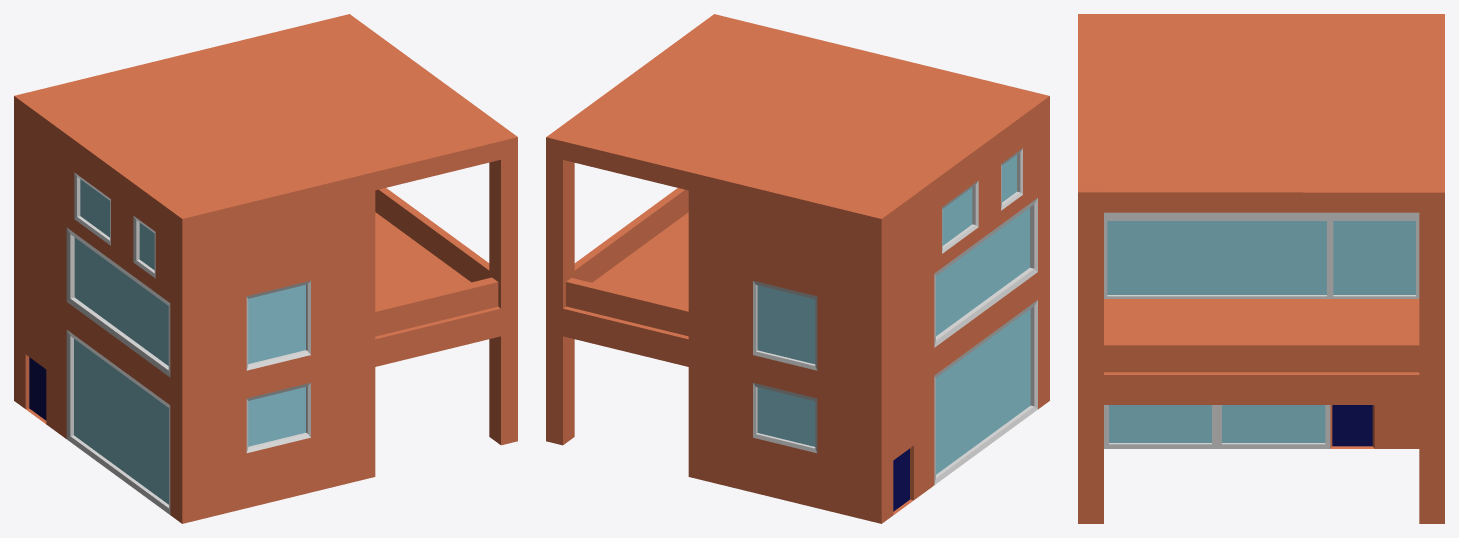
Rendered from Luxury House.fbx.
The picture shows the model from 3 angles, left to right: view 1: azimuth 30°, elevation 25°; view 2: azimuth 150°, elevation 25°; view 3: azimuth 270°, elevation 25°; orthographic projection. The views are drawn at different scales.
Parts seen in each view (by area): view 1: Luxury House; view 2: Luxury House; view 3: Luxury House.
Boxes of the visible parts, x1,y1,x2,y2 form: Luxury House: (14,14,517,523); Luxury House: (546,14,1049,523); Luxury House: (1078,14,1444,523).
Size of the model in its own units: 678 by 781 by 678.
